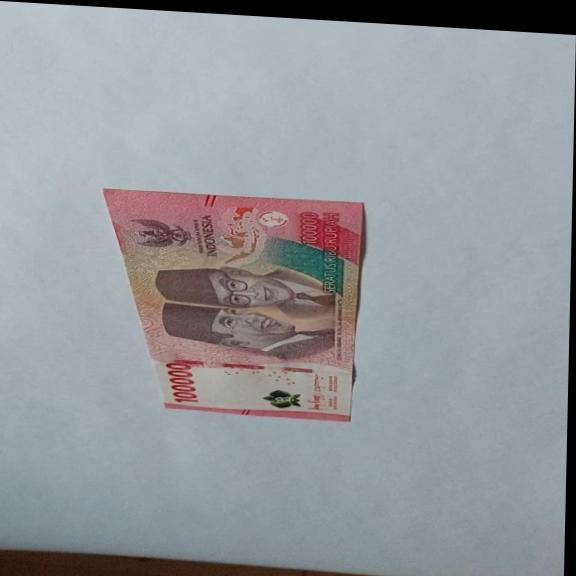Kertas: (96, 185, 366, 423)
